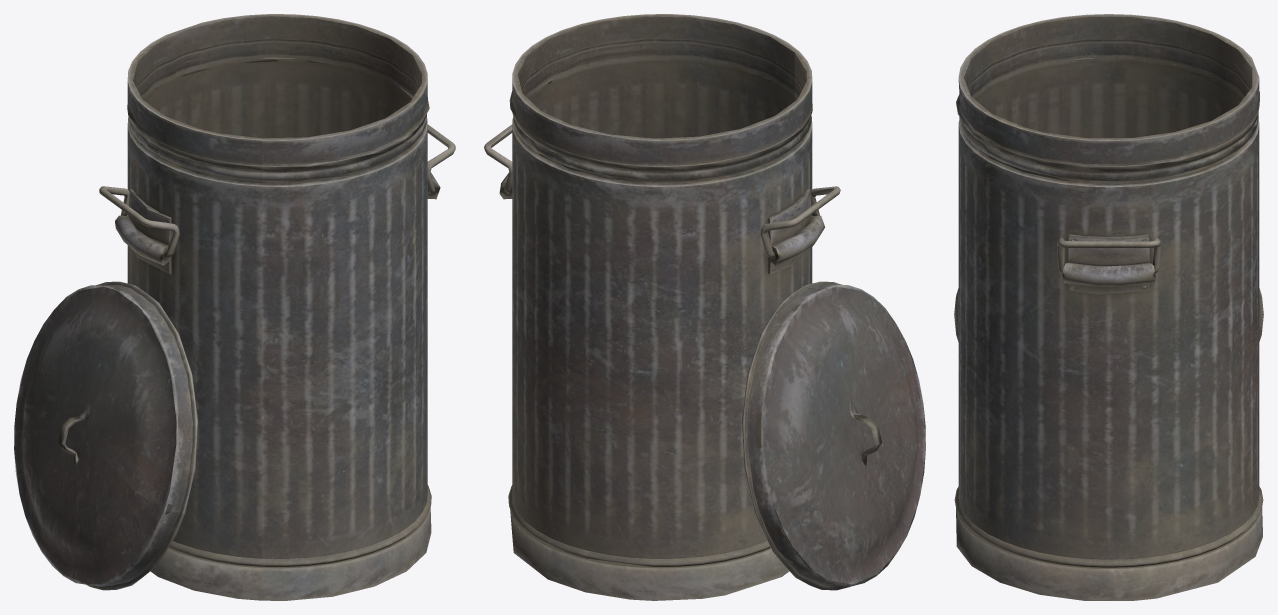
Rendered from MetalTrashCan.obj.
The picture shows the model from 3 angles, left to right: view 1: azimuth 30°, elevation 25°; view 2: azimuth 150°, elevation 25°; view 3: azimuth 270°, elevation 25°; orthographic projection.
Visible parts, largest first — view 1: metal_trash_can, metal_trash_can_lid, metal_trash_can_handle_left, metal_trash_can_handle_right; view 2: metal_trash_can, metal_trash_can_lid, metal_trash_can_handle_left, metal_trash_can_handle_right; view 3: metal_trash_can, metal_trash_can_handle_right.
Boxes of the visible parts, x1,y1,x2,y2 form: metal_trash_can: [115, 14, 440, 600]; metal_trash_can_lid: [14, 281, 197, 590]; metal_trash_can_handle_left: [99, 186, 179, 258]; metal_trash_can_handle_right: [427, 124, 455, 193]; metal_trash_can: [499, 14, 824, 600]; metal_trash_can_lid: [742, 281, 925, 590]; metal_trash_can_handle_left: [760, 186, 840, 258]; metal_trash_can_handle_right: [484, 124, 512, 193]; metal_trash_can: [954, 14, 1263, 600]; metal_trash_can_handle_right: [1057, 237, 1160, 273].
Bounding box in the file's own units: 0.7772 × 0.9062 × 0.5542.
1 material, 1 textured.
